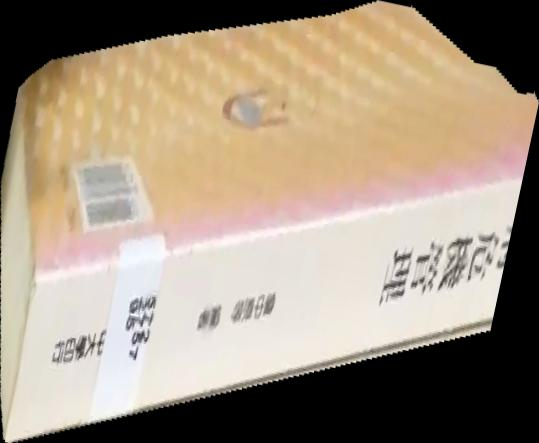flat: (1, 1, 539, 443)
